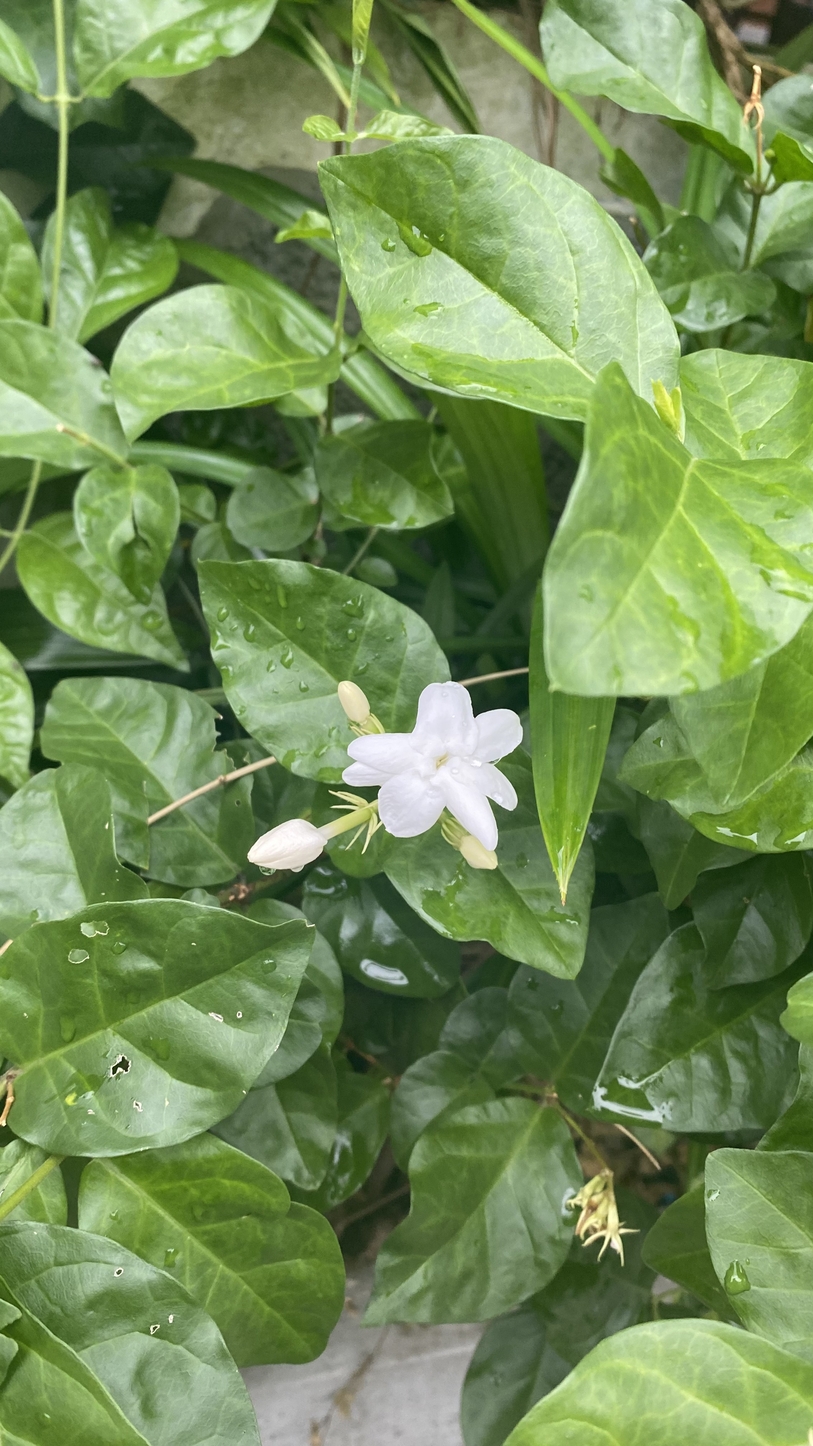jasmine: (246, 656, 569, 926)
